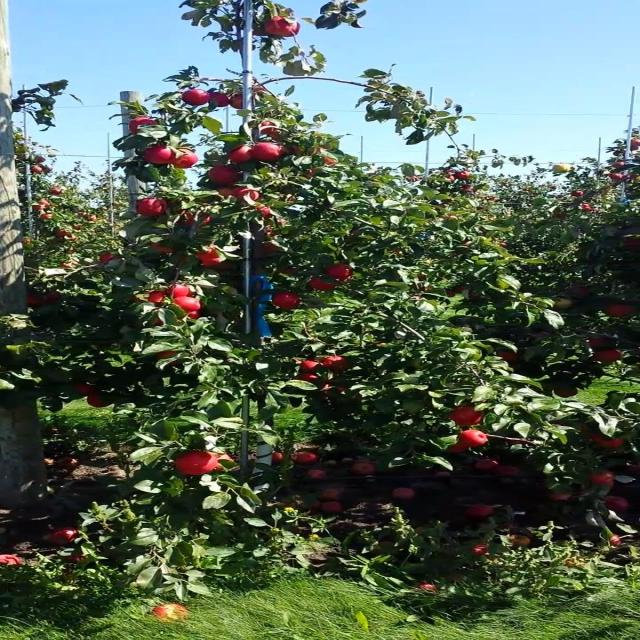apple: (177, 452, 215, 476), (454, 408, 484, 426), (177, 212, 213, 227), (255, 144, 284, 162), (212, 168, 242, 184), (461, 432, 491, 448), (326, 264, 356, 280), (589, 472, 619, 488), (170, 152, 199, 168), (198, 248, 222, 267), (148, 148, 176, 164), (234, 188, 263, 203), (141, 200, 167, 216), (276, 20, 299, 38), (319, 384, 348, 398), (596, 436, 626, 449), (177, 296, 201, 312), (269, 20, 292, 36), (184, 92, 206, 107), (326, 356, 348, 371), (604, 500, 631, 512), (234, 148, 254, 164), (312, 280, 338, 292), (611, 304, 635, 317), (596, 352, 624, 363), (170, 284, 192, 297), (148, 244, 176, 254), (276, 296, 299, 308), (212, 92, 228, 108), (134, 120, 156, 131), (99, 252, 119, 264), (148, 292, 167, 304), (220, 456, 235, 471), (497, 352, 519, 362), (305, 360, 322, 372), (554, 300, 576, 309), (77, 384, 94, 395), (276, 268, 299, 276), (92, 396, 107, 408), (262, 124, 277, 136), (447, 444, 469, 452), (28, 296, 44, 307), (255, 208, 272, 218), (49, 292, 64, 303), (305, 168, 318, 180), (554, 392, 576, 399), (298, 376, 320, 383), (156, 352, 178, 359), (589, 340, 610, 347), (234, 96, 245, 109), (262, 244, 279, 252), (220, 188, 235, 197), (575, 288, 590, 297), (291, 24, 302, 36), (255, 84, 268, 94), (291, 148, 304, 156), (625, 240, 638, 248), (191, 312, 203, 320), (269, 136, 284, 142), (326, 160, 336, 167)
